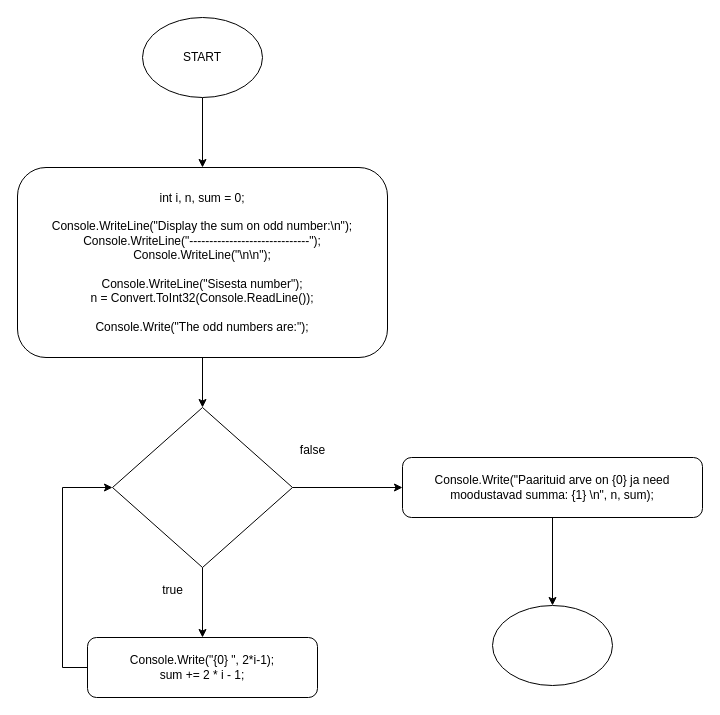
Image size: 720x715. Some labels were removed from this diagram. The box of each missing label's shape, as (x1, y1, x2, y2) in pixels:
END: (492, 604, 612, 686)
for (i = 1; i <= n; i++): (112, 406, 292, 568)
